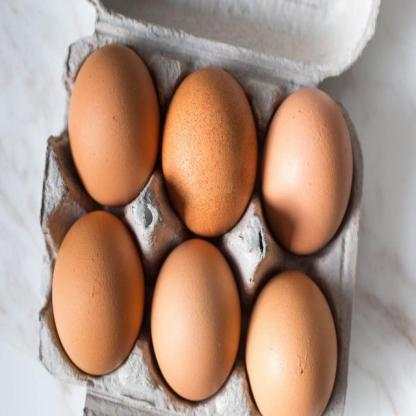egg: (45, 186, 149, 388), (158, 57, 260, 242), (68, 29, 162, 214), (265, 74, 361, 252), (146, 232, 240, 406), (246, 265, 344, 410)
